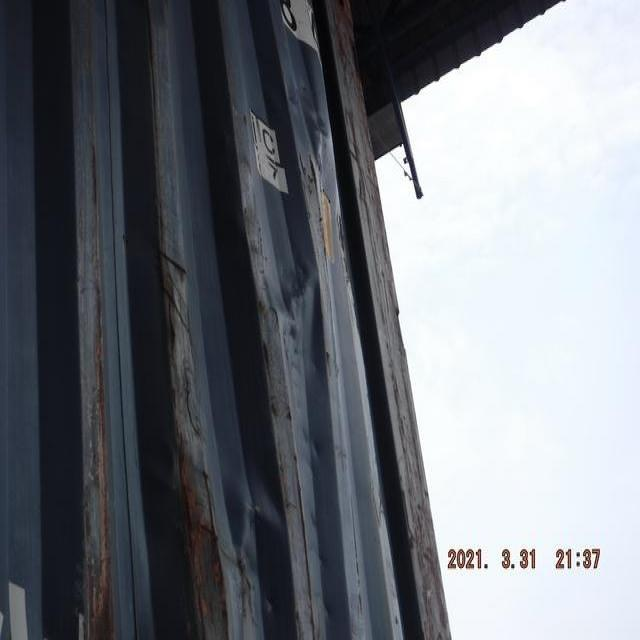Minor-Dent: (137, 430, 298, 640), (212, 227, 345, 381)
